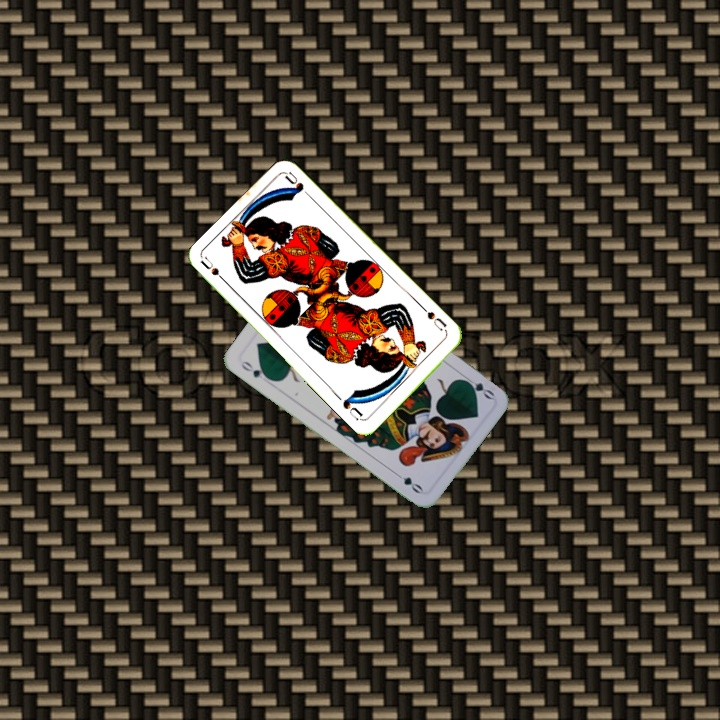GO: (458, 372, 497, 402), (237, 357, 274, 383)
SU: (197, 254, 231, 288), (418, 303, 450, 336)
